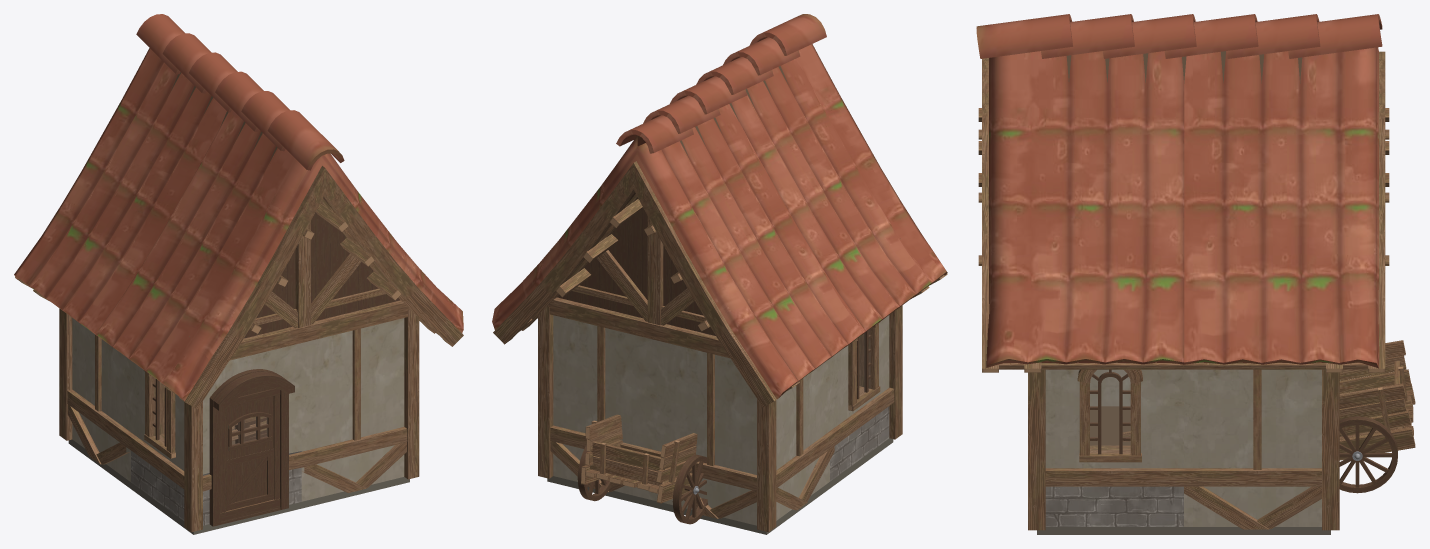
File: study.glb
3 renders of one model, left to right at view 1: azimuth 30°, elevation 25°; view 2: azimuth 150°, elevation 25°; view 3: azimuth 270°, elevation 25°, orthographic. The views are drawn at different scales.
Parts seen in each view (by area): view 1: Wall_Plaster_Door_Round, Roof_RoundTiles_4x4, authored rubble plinth, Wall_Plaster_Window_Thin_Round; view 2: Roof_RoundTiles_4x4, Wall_Plaster_Door_Round, Prop_Wagon, authored rubble plinth, Wall_Plaster_Window_Thin_Round; view 3: Roof_RoundTiles_4x4, Wall_Plaster_Door_Round, Prop_Wagon, Wall_Plaster_Window_Thin_Round, authored rubble plinth, authored closed floor.
Boxes of the visible parts, x1,y1,x2,y2 form: Wall_Plaster_Door_Round: (15,166,463,532); Roof_RoundTiles_4x4: (14,14,463,401); authored rubble plinth: (68,439,409,534); Wall_Plaster_Window_Thin_Round: (131,451,184,520); Roof_RoundTiles_4x4: (492,14,947,399); Wall_Plaster_Door_Round: (493,161,947,532); Prop_Wagon: (577,414,707,524); authored rubble plinth: (547,438,893,534); Wall_Plaster_Window_Thin_Round: (830,406,889,481); Roof_RoundTiles_4x4: (976,14,1382,368); Wall_Plaster_Door_Round: (978,51,1389,530); Prop_Wagon: (1122,340,1415,493); Wall_Plaster_Window_Thin_Round: (1045,486,1183,526); authored rubble plinth: (1037,527,1330,534); authored closed floor: (1066,51,1302,445).
Bounding box in the file's own units: 5.51 × 6.85 × 5.97.
8 materials, 5 textured.
